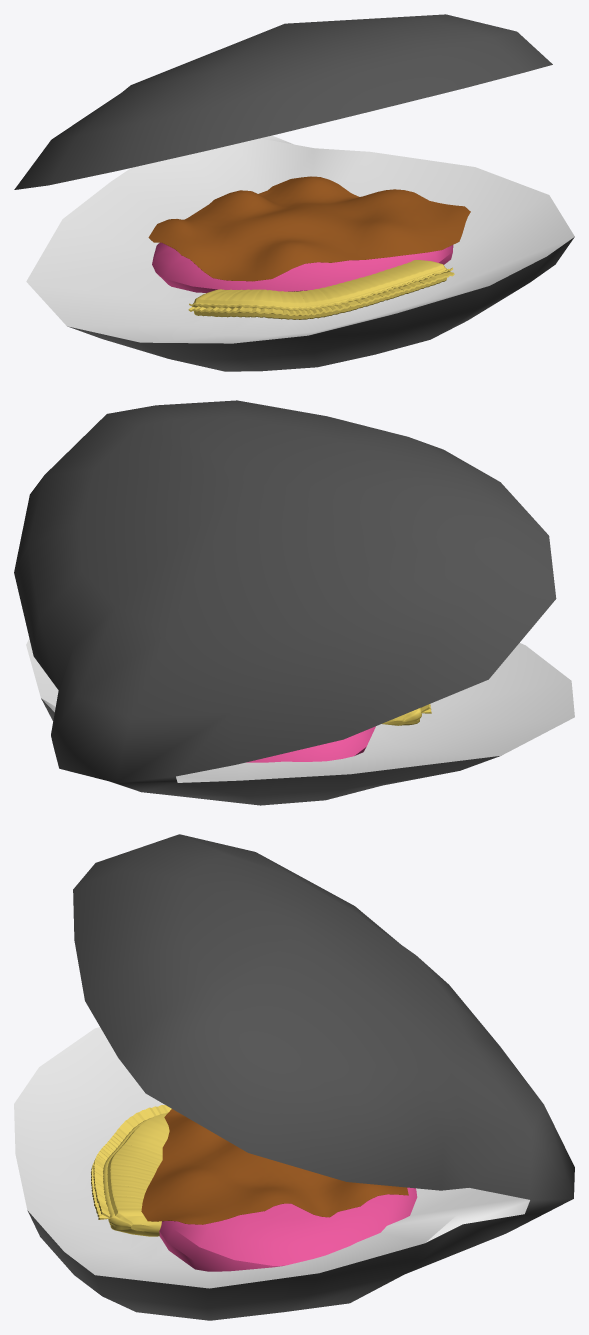
File: ClamExport2.fbx
3 renders of one model, top to bottom at view 1: azimuth 30°, elevation 25°; view 2: azimuth 150°, elevation 25°; view 3: azimuth 270°, elevation 25°, orthographic. The views are drawn at different scales.
Visible parts, largest first — view 1: Shell, Frill, Flap, Bud; view 2: Shell, Bud; view 3: Shell, Frill, Bud, Flap.
Boxes of the visible parts, x1,y1,x2,y2 form: Shell: [14, 14, 574, 371]; Frill: [148, 176, 470, 281]; Flap: [188, 260, 454, 319]; Bud: [152, 242, 453, 293]; Shell: [14, 400, 574, 805]; Bud: [246, 726, 375, 762]; Shell: [14, 834, 574, 1320]; Frill: [141, 1109, 408, 1224]; Bud: [159, 1187, 417, 1271]; Flap: [91, 1105, 171, 1236].
Bounding box in the file's own units: 267 × 156 × 224.
